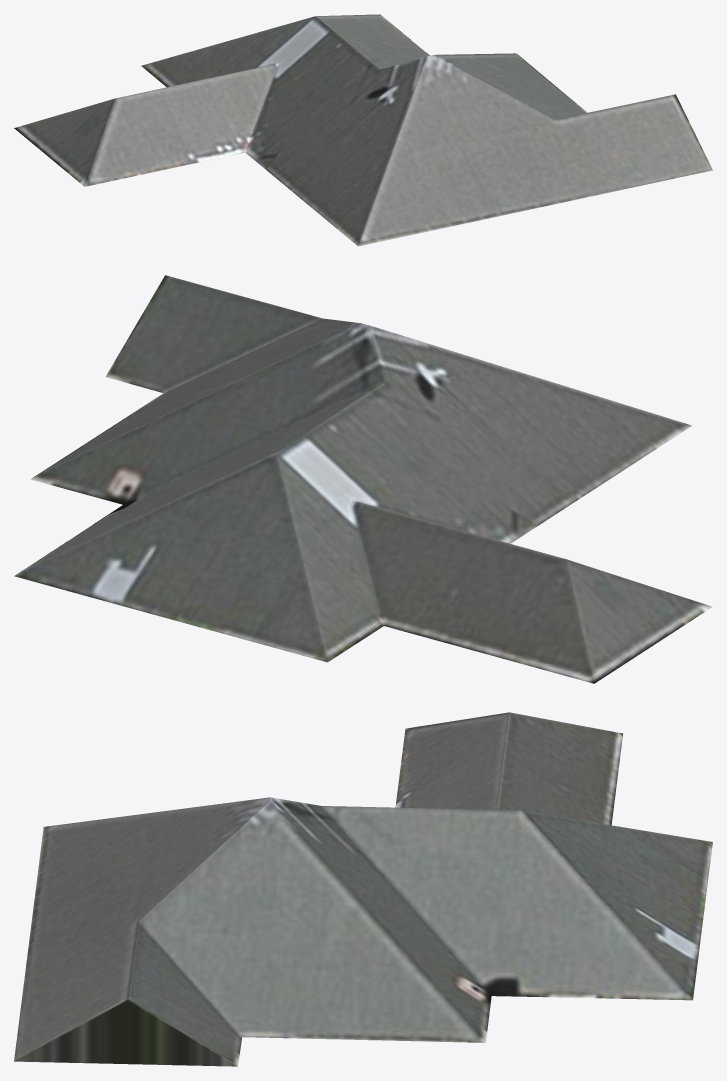
The model's file is CG10_500_039070_0053_roof.obj.
The picture shows the model from 3 angles, top to bottom: view 1: azimuth 30°, elevation 25°; view 2: azimuth 150°, elevation 25°; view 3: azimuth 270°, elevation 25°; orthographic projection. The views are drawn at different scales.
Parts seen in each view (by area): view 1: CG10_500_039070_0053_roof; view 2: CG10_500_039070_0053_roof; view 3: CG10_500_039070_0053_roof.
Part boxes in pixels (x1,y1,x2,y2): CG10_500_039070_0053_roof: [14, 14, 712, 246]; CG10_500_039070_0053_roof: [14, 275, 712, 683]; CG10_500_039070_0053_roof: [14, 712, 712, 1066].
Bounding box in the file's own units: 385 × 70 × 336.
1 material, 1 textured.
